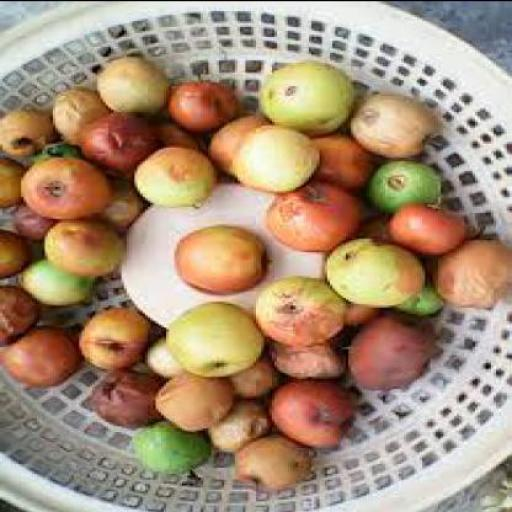biodegradable: (161, 302, 259, 382), (319, 237, 423, 311), (253, 60, 354, 136), (346, 312, 438, 393), (172, 225, 266, 297), (261, 186, 359, 253), (227, 126, 319, 196), (264, 378, 348, 453), (250, 279, 340, 346), (346, 94, 433, 160), (21, 158, 111, 220), (430, 241, 507, 313), (77, 112, 156, 176), (130, 148, 211, 210), (74, 306, 150, 372), (127, 419, 208, 477), (153, 372, 230, 433), (0, 326, 76, 387), (92, 56, 164, 120), (40, 221, 119, 277), (383, 205, 464, 259), (90, 370, 161, 431), (362, 158, 438, 214), (230, 439, 304, 494), (164, 80, 238, 134), (301, 135, 367, 194), (200, 115, 264, 174), (16, 263, 90, 308), (50, 90, 106, 148), (264, 340, 345, 380), (203, 403, 261, 452), (0, 111, 50, 160), (391, 273, 440, 318), (90, 184, 136, 230), (0, 286, 34, 348), (140, 340, 185, 382), (224, 362, 272, 401), (0, 229, 30, 283), (338, 298, 382, 330), (8, 207, 45, 242), (0, 156, 21, 210), (158, 123, 195, 150), (354, 217, 388, 242)
